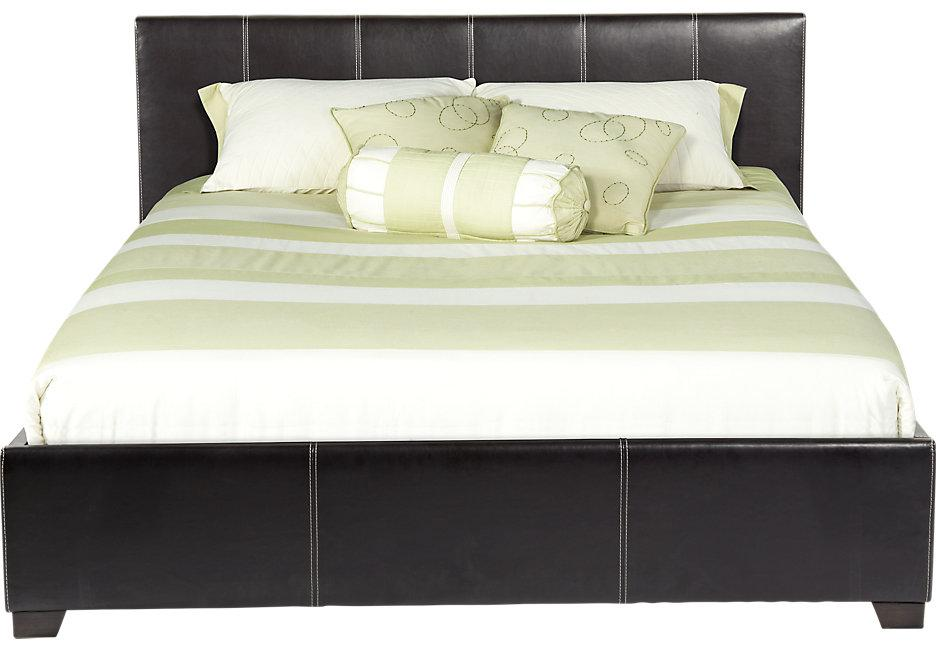bed: (7, 4, 934, 640)
